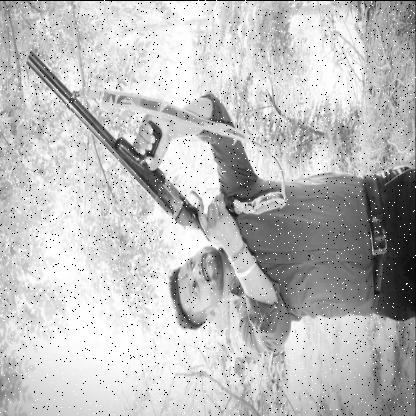rifle: (24, 46, 240, 244)
